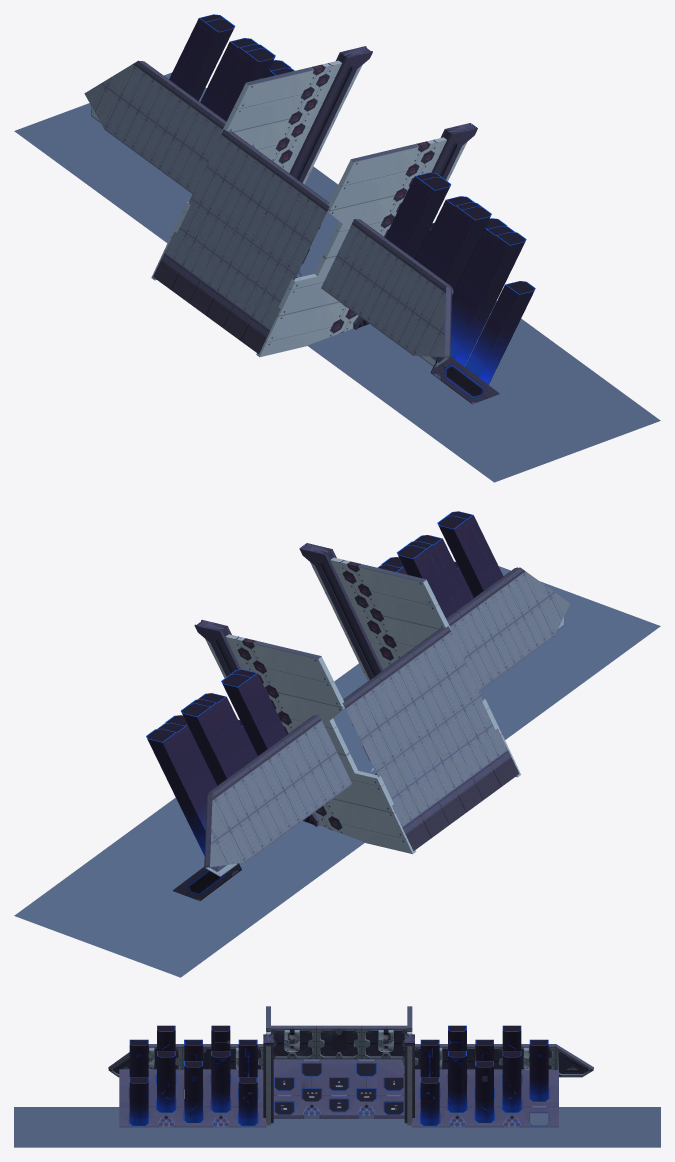
File: Scece_01_zhubian.FBX
3 renders of one model, top to bottom at view 1: azimuth 30°, elevation 25°; view 2: azimuth 150°, elevation 25°; view 3: azimuth 270°, elevation 25°, orthographic. The views are drawn at different scales.
Parts seen in each view (by area): view 1: Scece_01_zhubian, Scece_01_zhubian03; view 2: Scece_01_zhubian, Scece_01_zhubian03; view 3: Scece_01_zhubian, Scece_01_zhubian03, Scece_01_zhubian02.
Part boxes in pixels (x1=…): Scece_01_zhubian: x1=84, y1=14, x2=535, y2=404; Scece_01_zhubian03: x1=14, y1=72, x2=660, y2=482; Scece_01_zhubian: x1=146, y1=511, x2=570, y2=900; Scece_01_zhubian03: x1=14, y1=566, x2=660, y2=977; Scece_01_zhubian: x1=108, y1=1006, x2=593, y2=1127; Scece_01_zhubian03: x1=14, y1=1107, x2=660, y2=1147; Scece_01_zhubian02: x1=133, y1=1040, x2=542, y2=1123.
Bounding box in the file's own units: 1764 × 1390 × 6781.
Materials: 3 (3 with a texture image).
